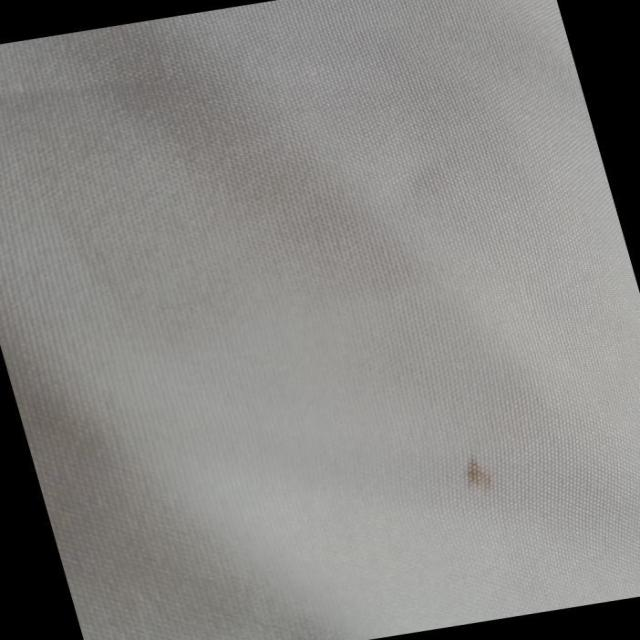stain: (443, 440, 517, 505)
